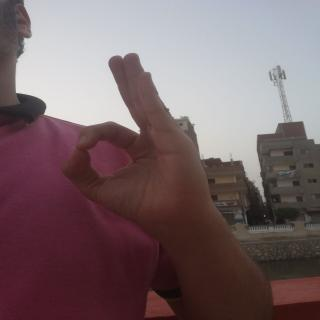Space: (58, 49, 222, 230)
